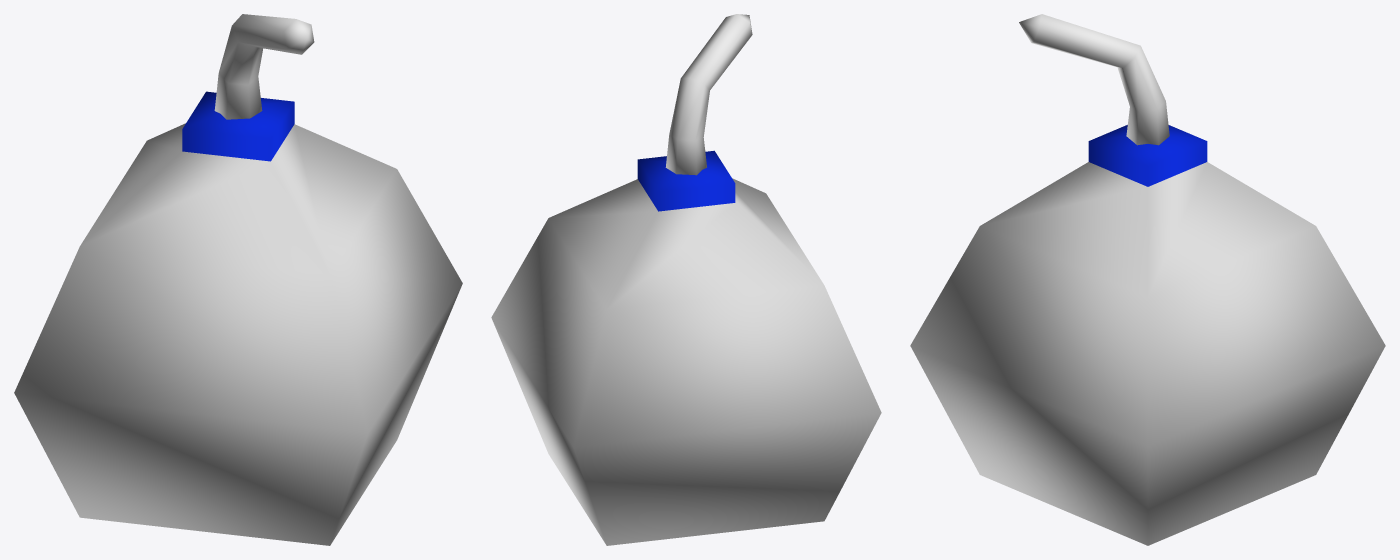
Rendered from da-bomb.fbx.
3 views of the same model, side by side, from view 1: azimuth 30°, elevation 25°; view 2: azimuth 150°, elevation 25°; view 3: azimuth 270°, elevation 25° (orthographic). The views are drawn at different scales.
Visible parts, largest first — view 1: Bomb, Rope; view 2: Bomb, Rope; view 3: Bomb, Rope.
Boxes of the visible parts, x1=… form: Bomb: x1=14, y1=91, x2=462, y2=545; Rope: x1=214, y1=14, x2=314, y2=119; Bomb: x1=491, y1=150, x2=881, y2=545; Rope: x1=665, y1=14, x2=752, y2=175; Bomb: x1=910, y1=125, x2=1385, y2=545; Rope: x1=1019, y1=14, x2=1169, y2=145.
Size of the model in its own units: 226 by 268 by 226.
